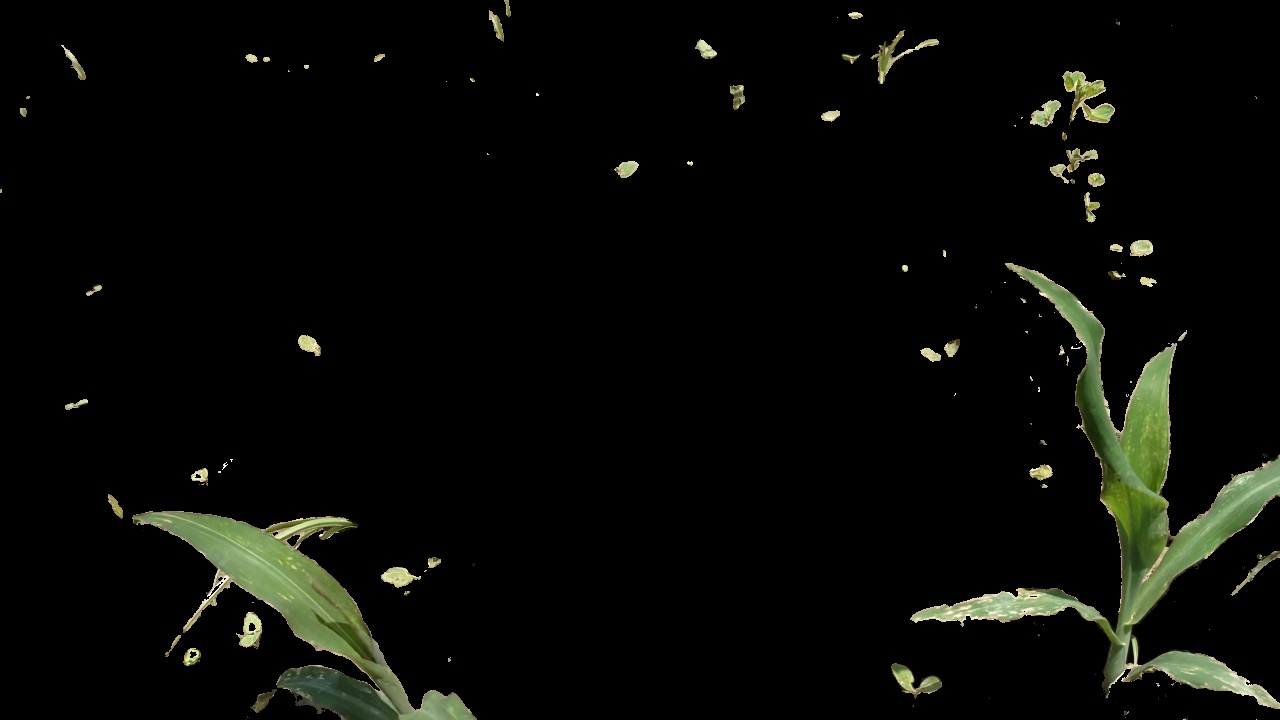crop: (971, 251, 1280, 720), (118, 507, 486, 720)
weed: (832, 21, 951, 88), (1033, 54, 1112, 141), (1052, 148, 1135, 229), (382, 554, 465, 595), (228, 609, 272, 655), (886, 661, 941, 697), (922, 329, 965, 368), (1106, 235, 1153, 268)
